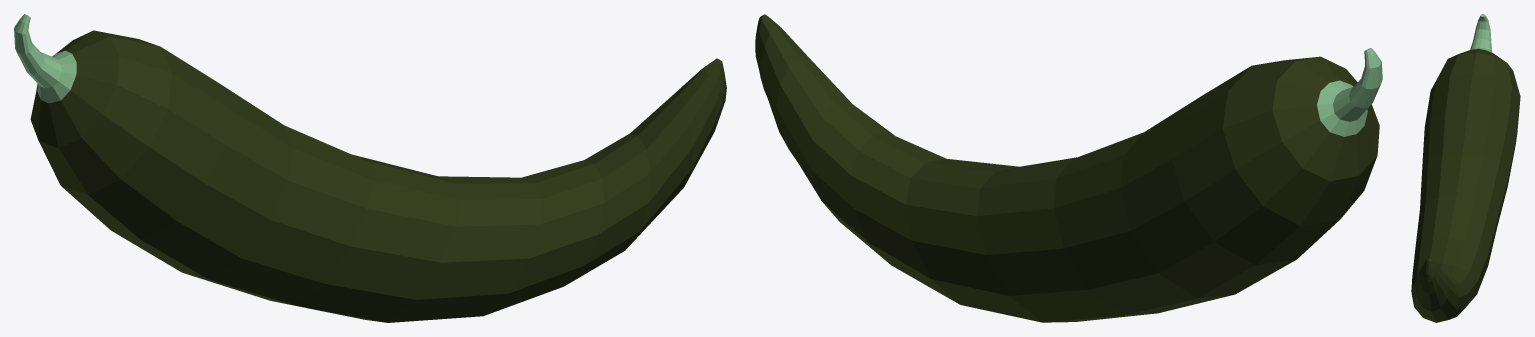
Rendered from chili2.glb.
The picture shows the model from 3 angles, left to right: view 1: azimuth 30°, elevation 25°; view 2: azimuth 150°, elevation 25°; view 3: azimuth 270°, elevation 25°; orthographic projection. The views are drawn at different scales.
Parts seen in each view (by area): view 1: chili2; view 2: chili2; view 3: chili2.
Part boxes in pixels (x1,y1,x2,y2): chili2: (14, 14, 726, 322); chili2: (755, 14, 1382, 322); chili2: (1411, 14, 1520, 322).
Bounding box in the file's own units: 0.8929 × 0.4837 × 0.2492.
1 material, 1 textured.
